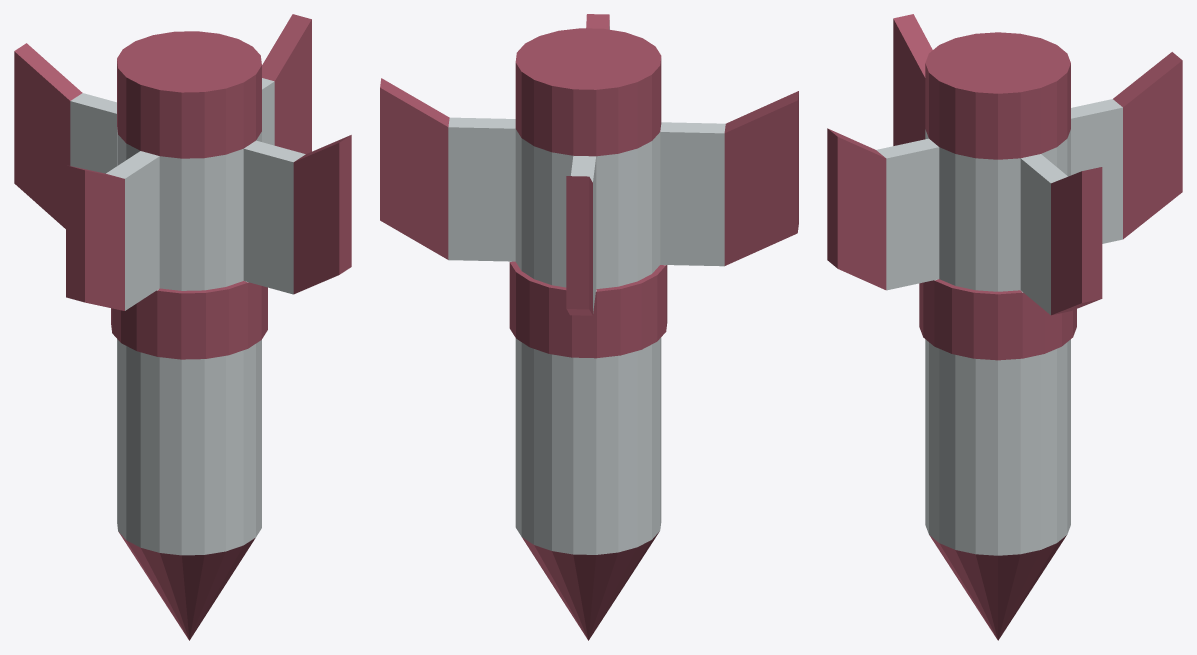
File: RocketToy_Final.fbx
The picture shows the model from 3 angles, left to right: view 1: azimuth 30°, elevation 25°; view 2: azimuth 150°, elevation 25°; view 3: azimuth 270°, elevation 25°; orthographic projection.
Visible parts, largest first — view 1: RocketToy; view 2: RocketToy; view 3: RocketToy.
Part boxes in pixels (x1,y1,x2,y2): RocketToy: (14,14,351,640); RocketToy: (380,14,798,640); RocketToy: (827,14,1182,640).
Size of the model in its own units: 523 by 876 by 488.
